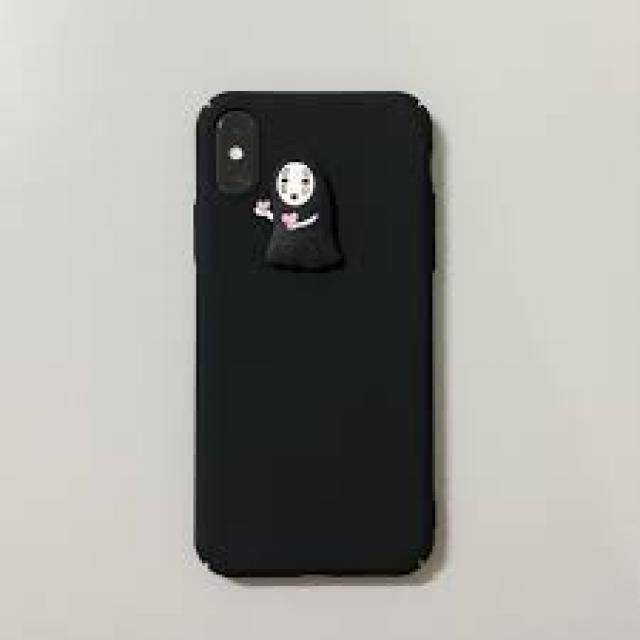Phone: (190, 85, 441, 586)
